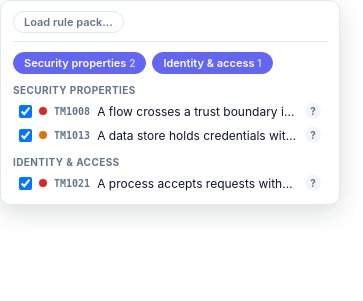
Test: AnalysisSettings — rule help › omits the fix section for a rule that has no help text
Click the 2nd button "?" at (313, 135), box [305,127,321,143]
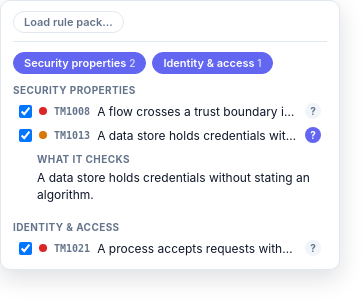
Expected: the text "What it checks" is shown, [37,153,130,165]
